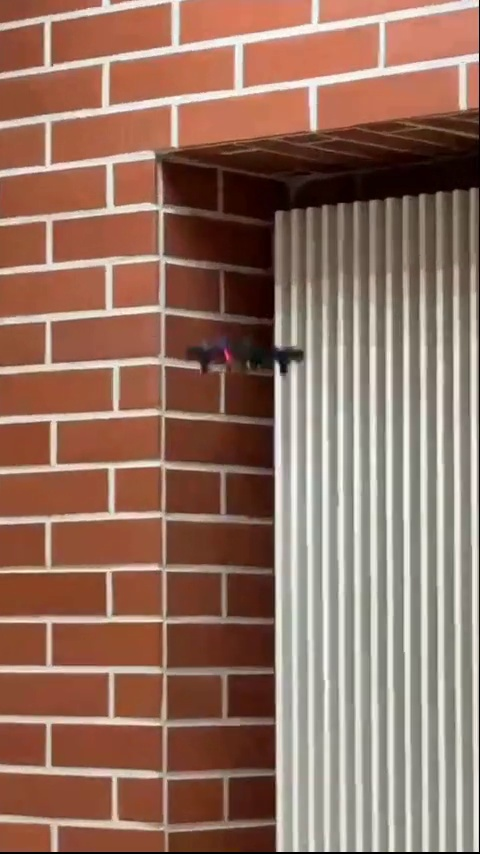drone: (181, 332, 306, 378)
